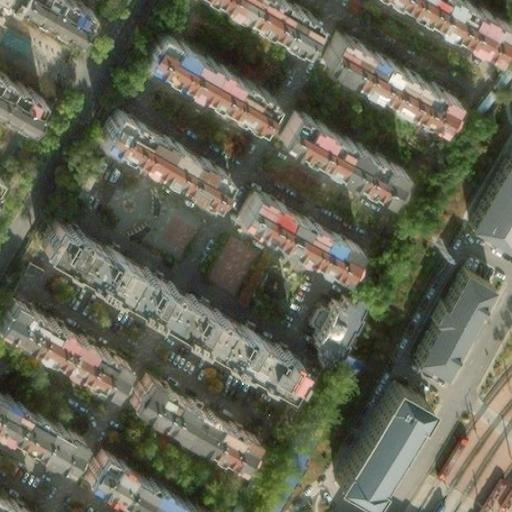building: (139, 32, 274, 129), (316, 33, 449, 128), (333, 366, 428, 492), (97, 111, 226, 202), (273, 109, 401, 200), (32, 212, 162, 301), (131, 363, 258, 454), (232, 186, 353, 274), (83, 441, 212, 512), (171, 290, 275, 364), (406, 258, 478, 352), (0, 389, 82, 468), (465, 148, 512, 258), (287, 278, 344, 350), (0, 70, 43, 128), (476, 466, 511, 511)
